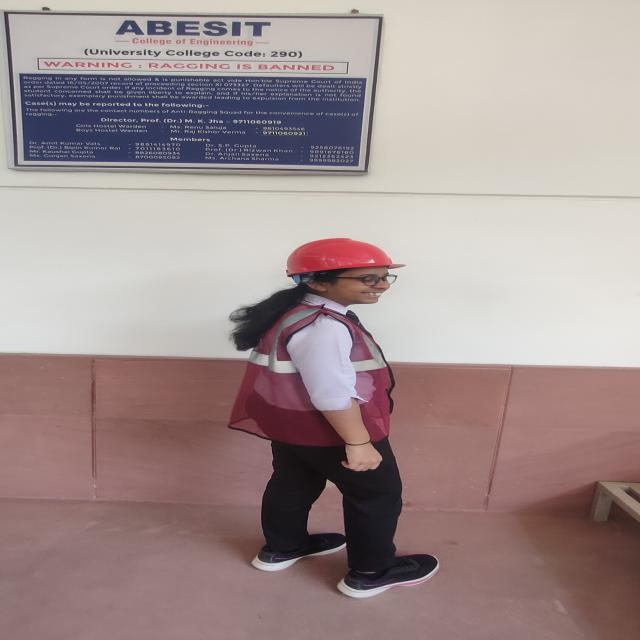safe: (236, 238, 439, 597)
